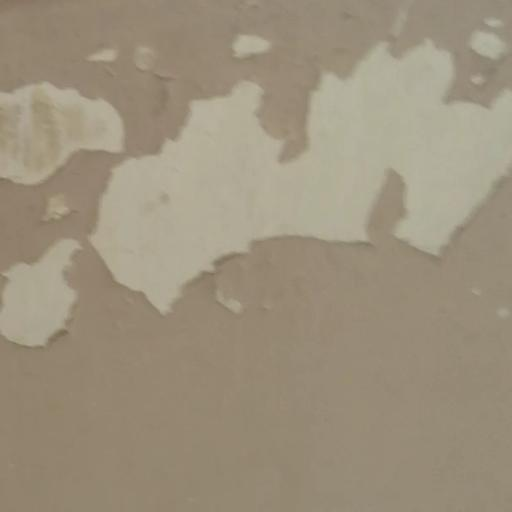peeling: (0, 0, 512, 356)
